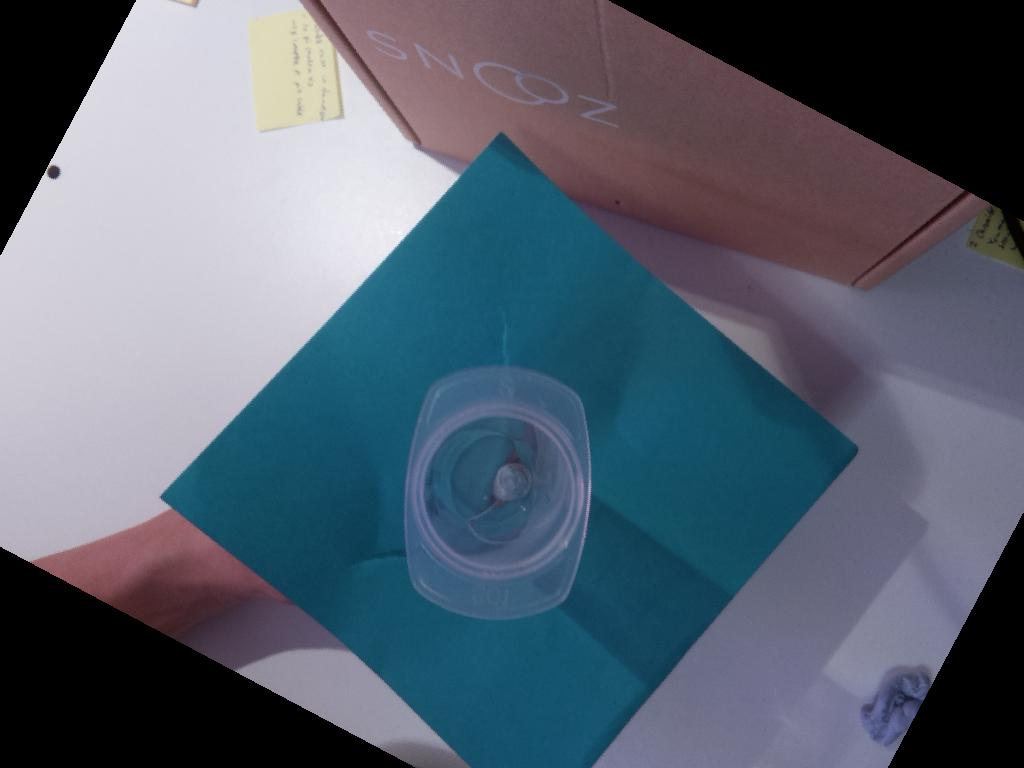clean: (402, 365, 592, 622)
